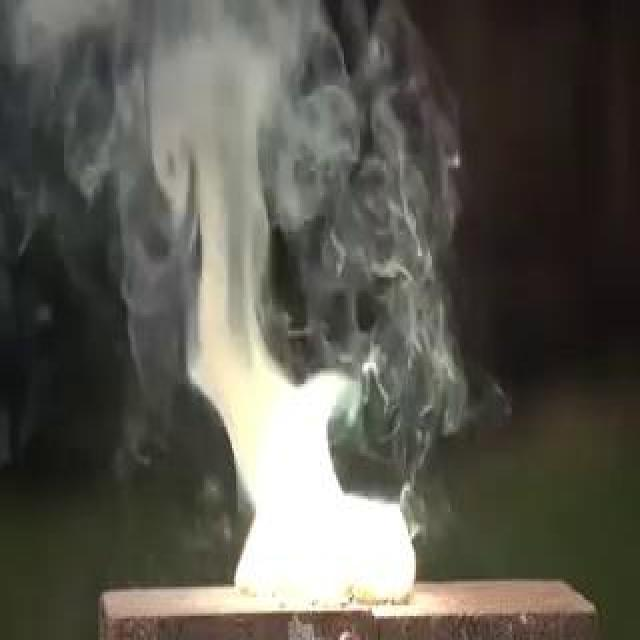Fire: (215, 309, 423, 608)
Smoke: (88, 31, 526, 480)
